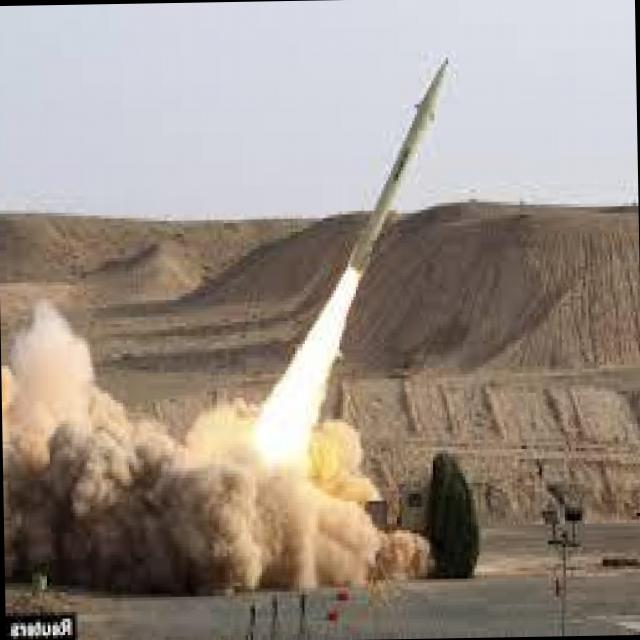rocket: (290, 59, 456, 372)
